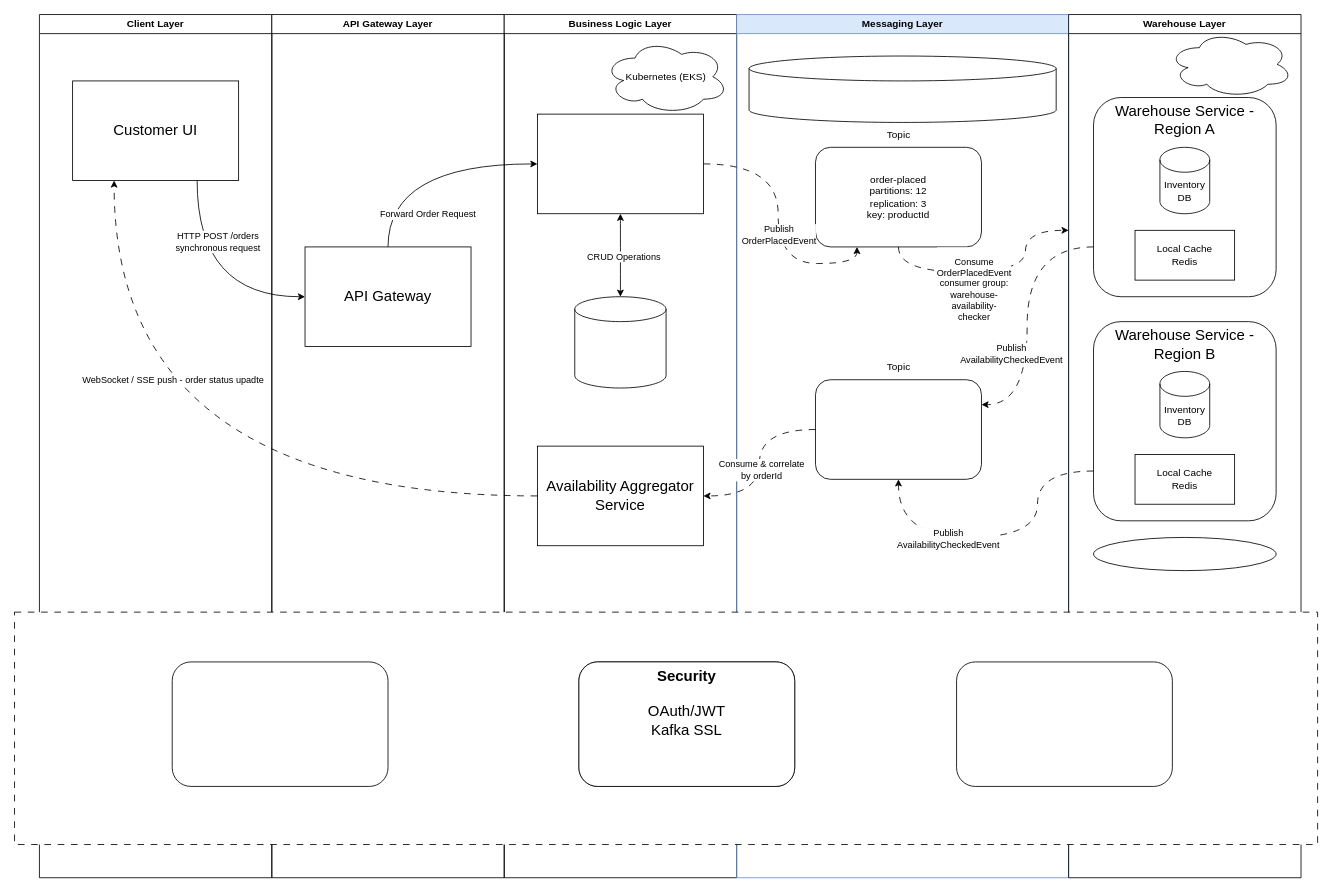
This 1332x892 diagram has some shape labels left out. Each missing label, with the centre of its shape:
"... up to N warehouses" goes at (1184,554).
"availability-response partitions: 24 replication: 3 key: orderId" goes at (898,429).
"Kafka Cluster (3-5 brokers, ISR=2)" goes at (902,88).
"Kubernetes Multi-region clusters" goes at (1230,64).
"Monitoring Prometheus Grafana Opentelemetry" goes at (279,723).
"Orchestrator Kubernetes Helm" goes at (1064,723).
"Order DB" goes at (620,342).
"Order Service" goes at (620,163).
